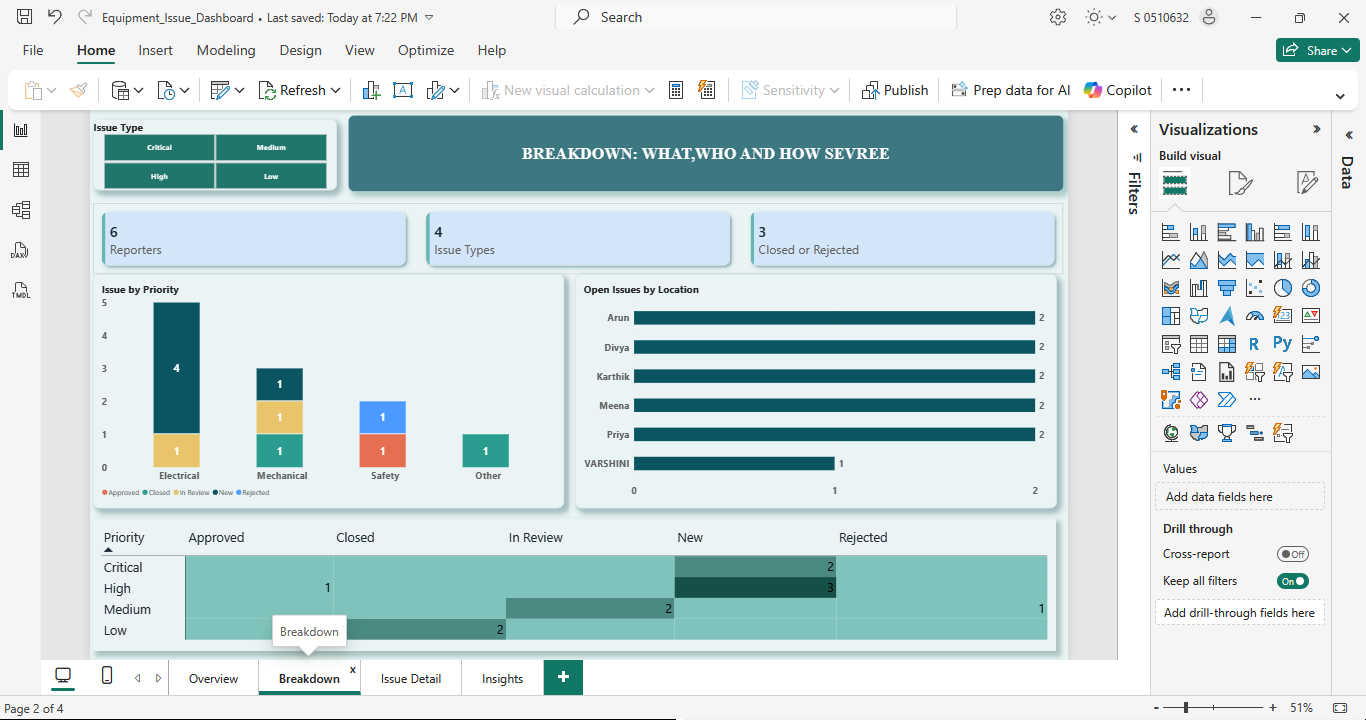

Layout of this report page (visuals, bound fields, positions):
{"tool":"powerbi","page":{"name":"02_flow_design","canvas":[1920,1080],"ordinal":1},"visuals":[{"type":"cardVisual","title":"Issue Type","fields":{"Data":["Issue.Reporters","Issue.Issue Types","Issue.Closed or Rejected"]},"box":[6.2,181.7,1905.5,140.4],"z":0},{"type":"slicer","title":"Issue Type","fields":{"Values":["Issue.Priority"]},"box":[6.2,18.6,479,140.4],"z":1000},{"type":"columnChart","title":"Issue by Priority","fields":{"Category":["Issue.Issue Type"],"Series":["Issue.Status"],"Y":["Issue.Total Issues"]},"box":[6.2,322.1,924.9,460.4],"z":2000},{"type":"clusteredBarChart","title":"Open Issues by Location","fields":{"Category":["Issue.Reported By"],"Y":["Issue.Total Issues"]},"box":[951.7,322.1,945.5,460.4],"z":3000},{"type":"pivotTable","title":"Issue Type","fields":{"Columns":["Issue.Status"],"Rows":["Issue.Priority"],"Values":["Issue.Total Issues"]},"box":[6.2,803.1,1891.1,260.1],"z":4000},{"type":"textbox","box":[505.8,10.3,1405.9,150.7],"z":5000}]}

Visuals, with their boxes on the page's 1920x1080 design canvas (x1, y1, x2, y2). These are canvas units, not pixel positions in the 1366x720 screenshot, which may show the page scaled, cropped or inside an application window:
"Issue Type" cardVisual: pyautogui.locateOnScreen(6, 182, 1912, 322)
"Issue Type" slicer: pyautogui.locateOnScreen(6, 19, 485, 159)
"Issue by Priority" columnChart: pyautogui.locateOnScreen(6, 322, 931, 782)
"Open Issues by Location" clusteredBarChart: pyautogui.locateOnScreen(952, 322, 1897, 782)
"Issue Type" pivotTable: pyautogui.locateOnScreen(6, 803, 1897, 1063)
textbox: pyautogui.locateOnScreen(506, 10, 1912, 161)
